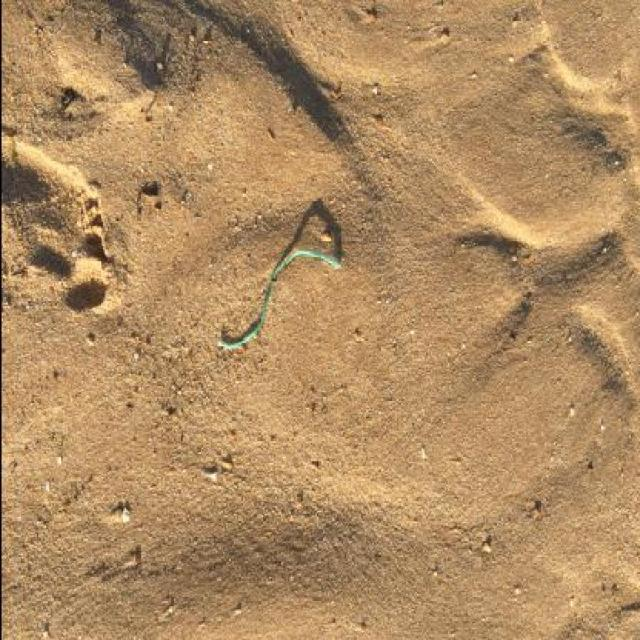other: (216, 249, 339, 351)
